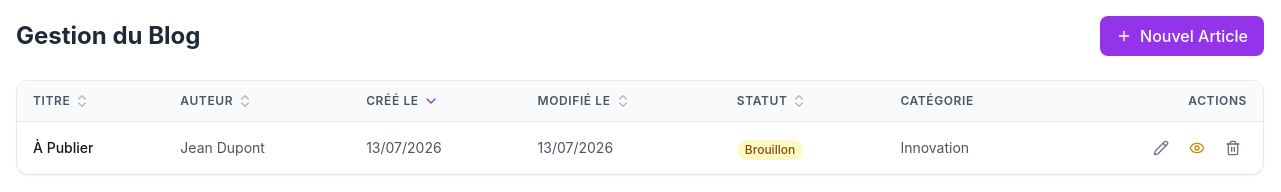
Test: AdminDashboard › Requirement 7.6 — Boutons d'action rapide › publie un article brouillon au clic sur Publier
Step 1. Click the button named "publier l'article \"à publier\"" → (1197,148), box [1183,134,1211,162]
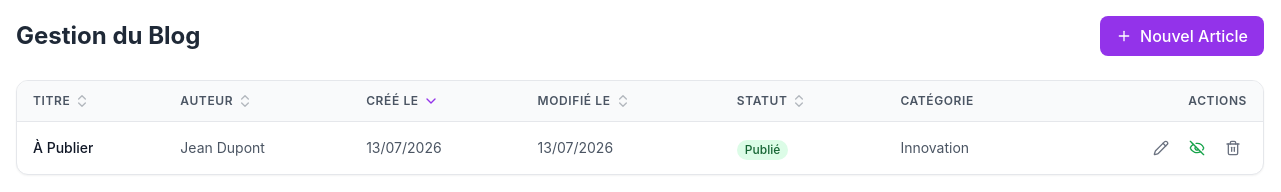
Now the text "Publié" is shown, box [737,140,788,160]
